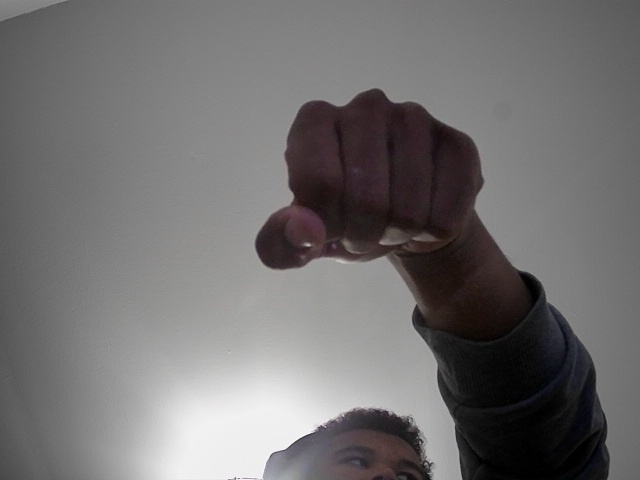Yes: (246, 84, 492, 273)
